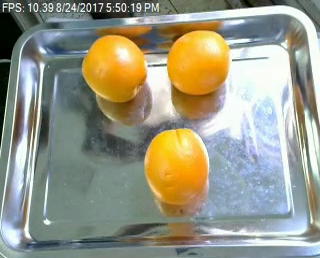Orange: (144, 126, 210, 206), (80, 34, 147, 103), (166, 28, 232, 94)
